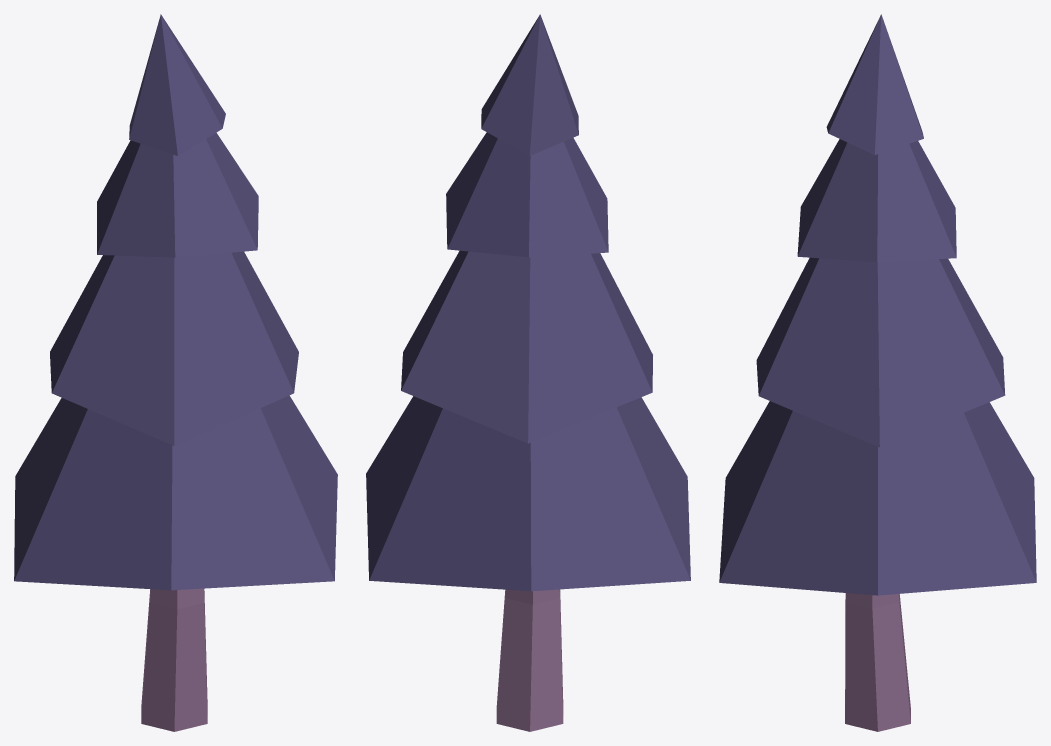
File: PineTree1.fbx
The picture shows the model from 3 angles, left to right: view 1: azimuth 30°, elevation 25°; view 2: azimuth 150°, elevation 25°; view 3: azimuth 270°, elevation 25°; orthographic projection.
Parts seen in each view (by area): view 1: pCylinder2, pCylinder3, pCylinder4, pCylinder1, pCylinder5; view 2: pCylinder2, pCylinder3, pCylinder4, pCylinder1, pCylinder5; view 3: pCylinder2, pCylinder3, pCylinder4, pCylinder1, pCylinder5.
Boxes of the visible parts, x1,y1,x2,y2 form: pCylinder2: (14, 395, 337, 590); pCylinder3: (50, 251, 298, 445); pCylinder4: (97, 132, 258, 257); pCylinder1: (141, 588, 207, 731); pCylinder5: (129, 14, 225, 155); pCylinder2: (366, 396, 690, 591); pCylinder3: (401, 250, 652, 443); pCylinder4: (446, 132, 608, 257); pCylinder1: (496, 589, 563, 731); pCylinder5: (481, 14, 578, 155); pCylinder2: (719, 401, 1036, 595); pCylinder3: (756, 257, 1005, 447); pCylinder4: (797, 139, 956, 262); pCylinder1: (845, 593, 910, 731); pCylinder5: (826, 14, 923, 154).
Bounding box in the file's own units: 5.2 × 10.79 × 4.46.
